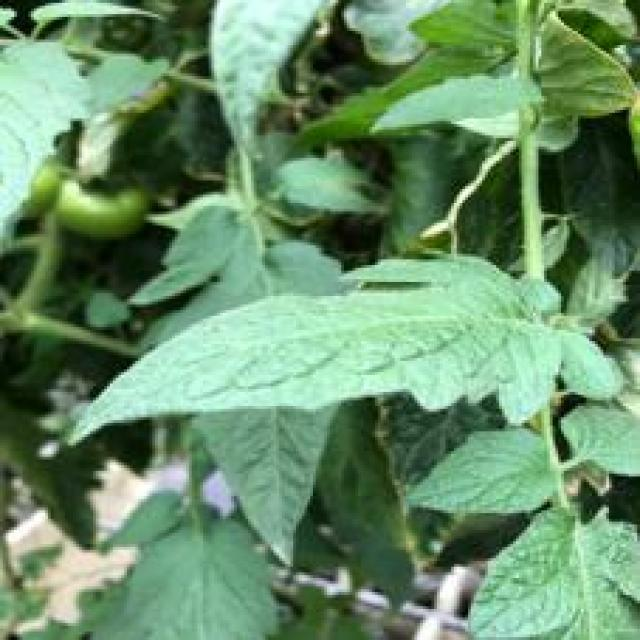Tomato healthy leaf: (87, 257, 632, 431), (468, 499, 640, 640), (412, 429, 555, 519), (373, 70, 549, 138)
